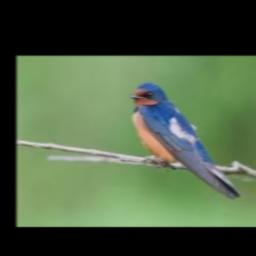Swallow: (130, 84, 241, 199)
